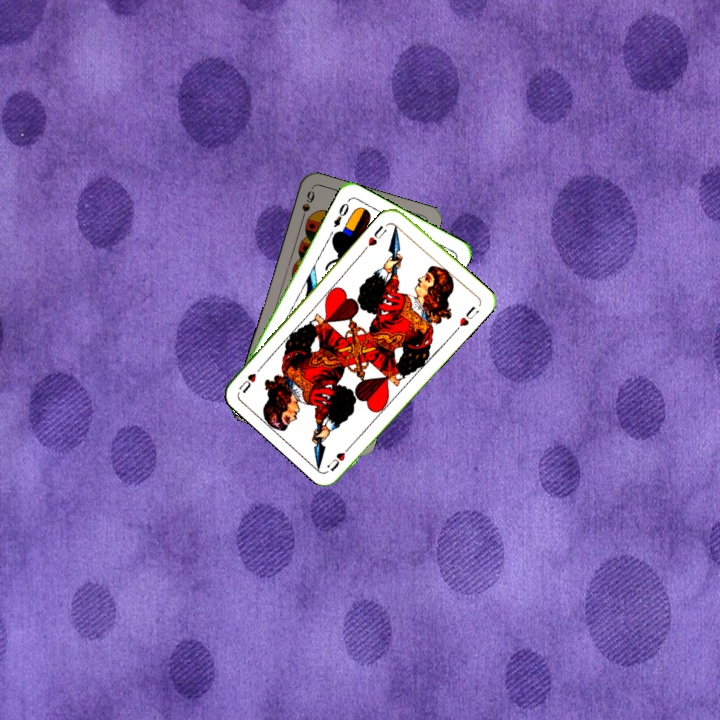EO: (329, 196, 352, 230)
HU: (323, 440, 355, 474), (364, 221, 389, 249)
S9: (297, 186, 317, 226)
